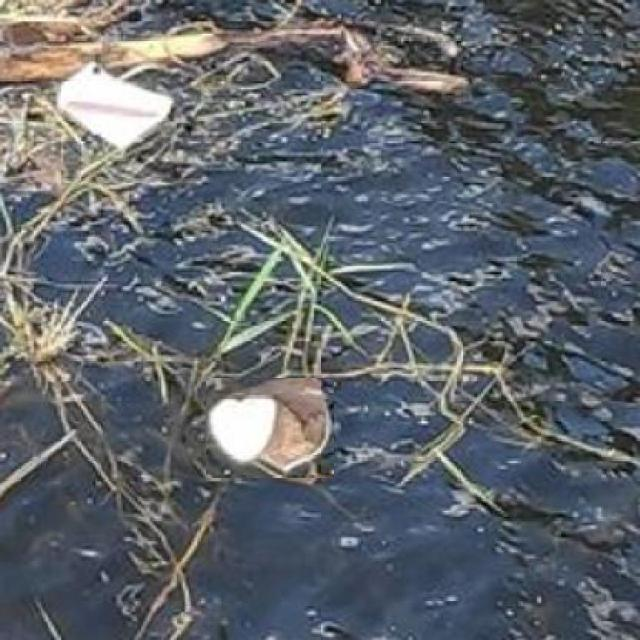Plastic Waste: (53, 58, 177, 156)
Plastic cup: (206, 378, 334, 478)
